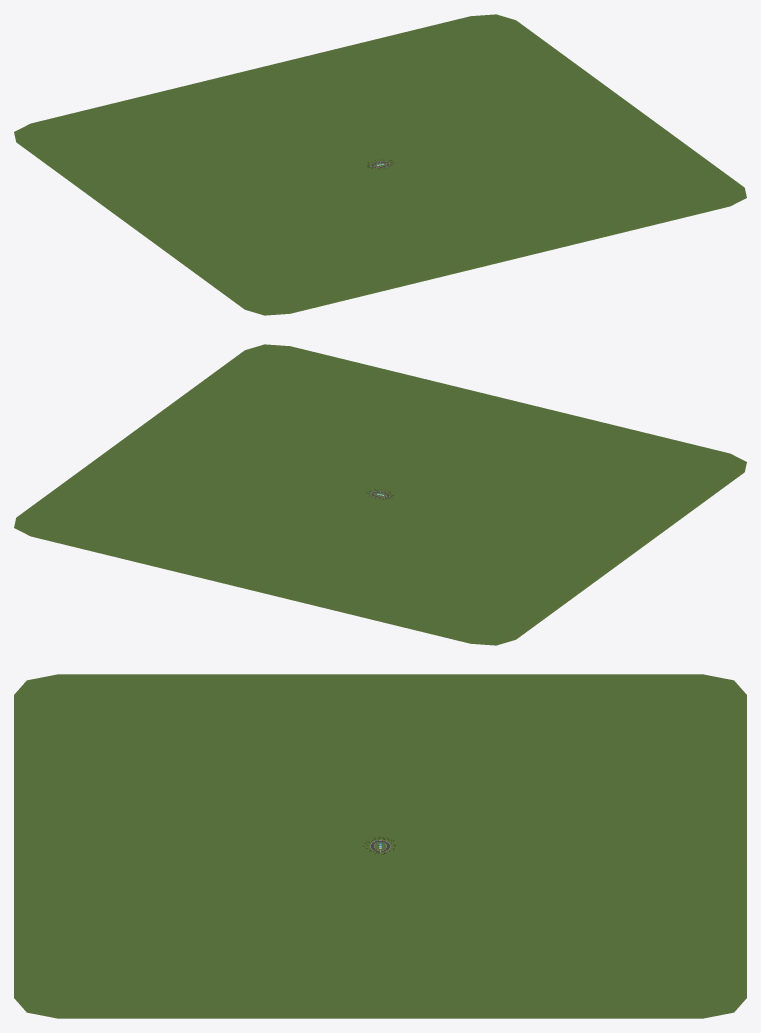
Rendered from circuit.glb.
3 views of the same model, one above another, from view 1: azimuth 30°, elevation 25°; view 2: azimuth 150°, elevation 25°; view 3: azimuth 270°, elevation 25° (orthographic). The views are drawn at different scales.
Parts seen in each view (by area): view 1: Circuito_Blender; view 2: Circuito_Blender; view 3: Circuito_Blender.
Boxes of the visible parts, x1,y1,x2,y2 form: Circuito_Blender: (14, 14, 746, 315); Circuito_Blender: (14, 344, 746, 645); Circuito_Blender: (14, 674, 746, 1018).
Size of the model in its own units: 2400 by 5.6 by 2160.
